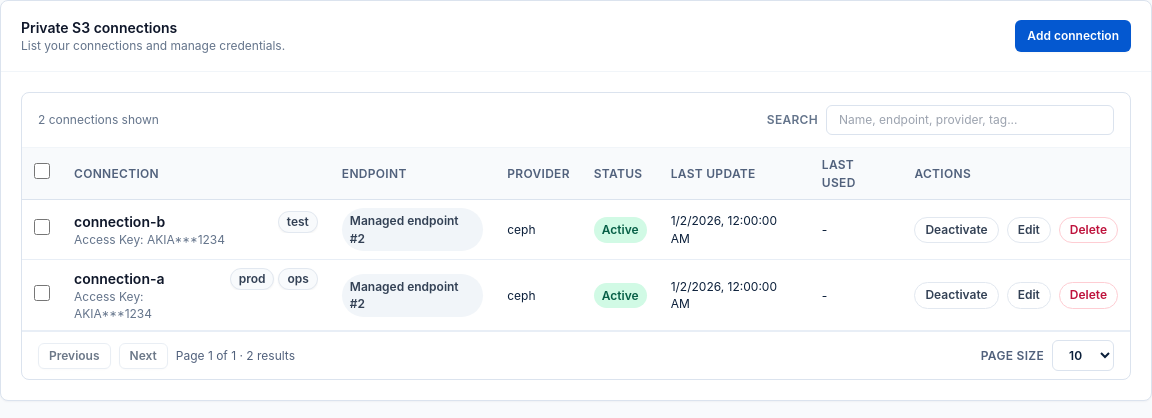
Scenario: ProfilePage live validation › renders private connection tags and includes them in the filter
The width and height of the screenshot is (1152, 418).
expect the text "connection-a" is shown: met, box [74, 270, 164, 287]
expect the text "prod" is shown: met, box [239, 271, 266, 286]
Type "ops" into the field with placeholder "Name, endpoint, provider, tag...". click: (970,120)
box: [826, 104, 1114, 135]
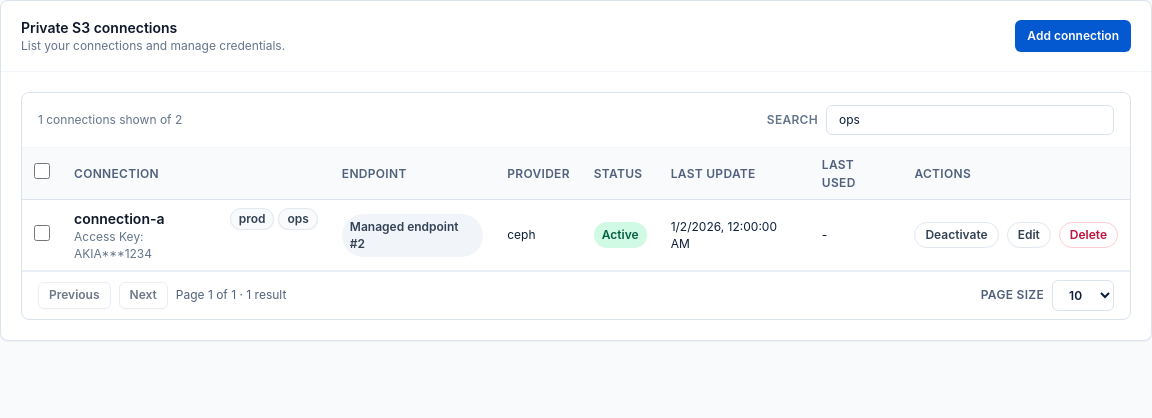
expect the text "connection-a" is shown: met, box [74, 210, 164, 227]
expect the text "connection-b" is gone: met
